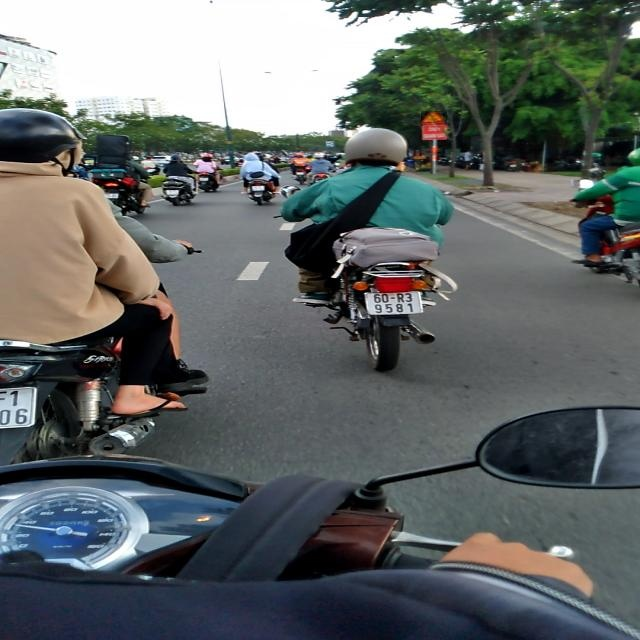bien_cam: (422, 112, 448, 125), (325, 141, 335, 147)
